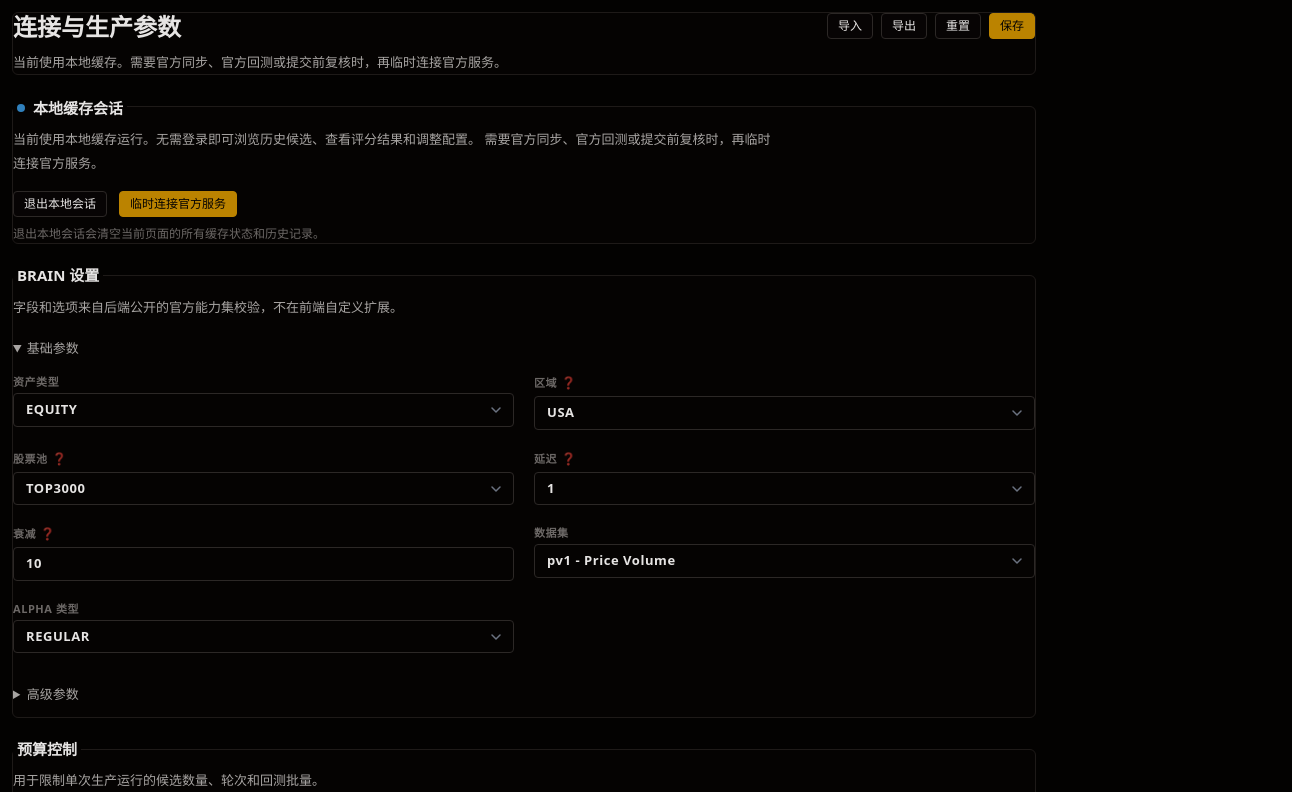
Test: ConfigPanel › keeps cache-only config state when logout fails
expect the text "本地缓存会话" is shown: met, box [17, 96, 123, 119]
Click the button "临时连接官方服务".
click(178, 204)  # box [119, 191, 237, 217]
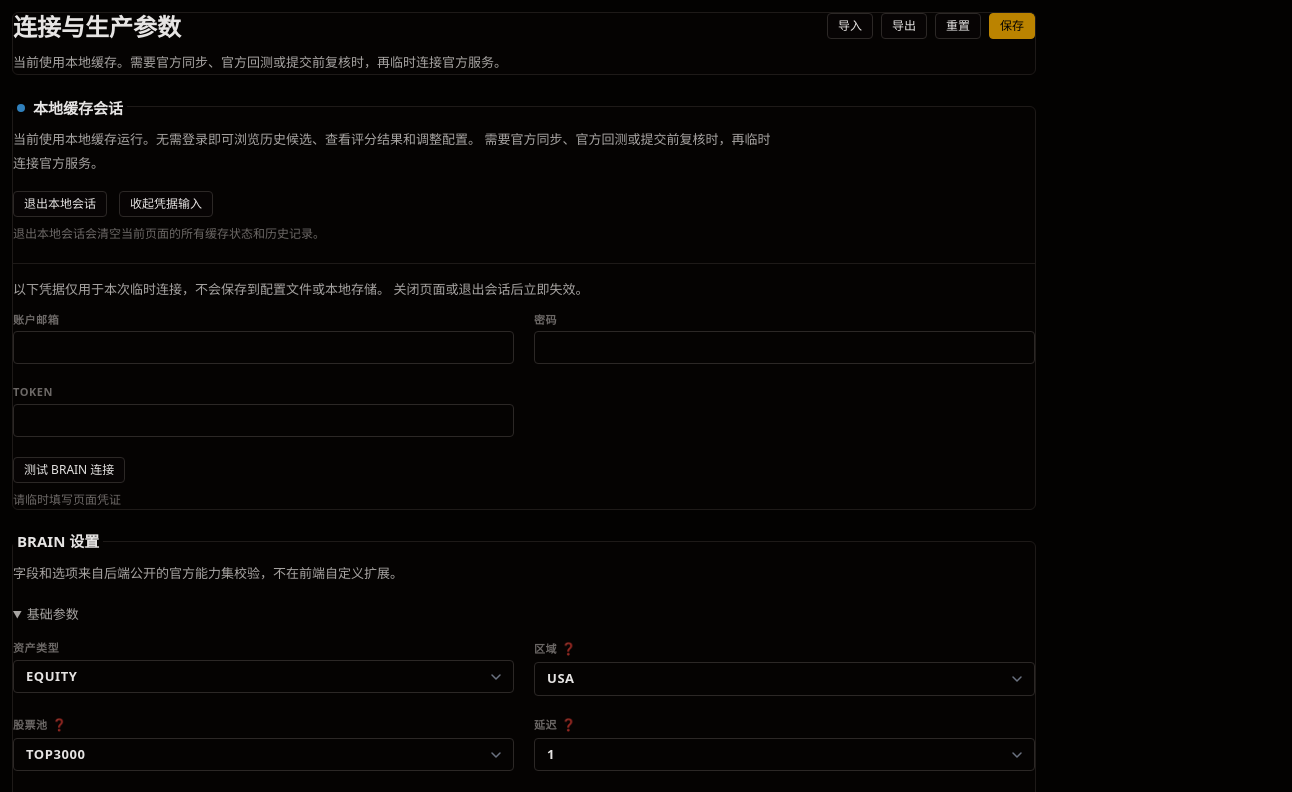
Type "session-token" into the password field labelled "Token".
click(264, 421); type("session-token")  # box [13, 404, 514, 437]
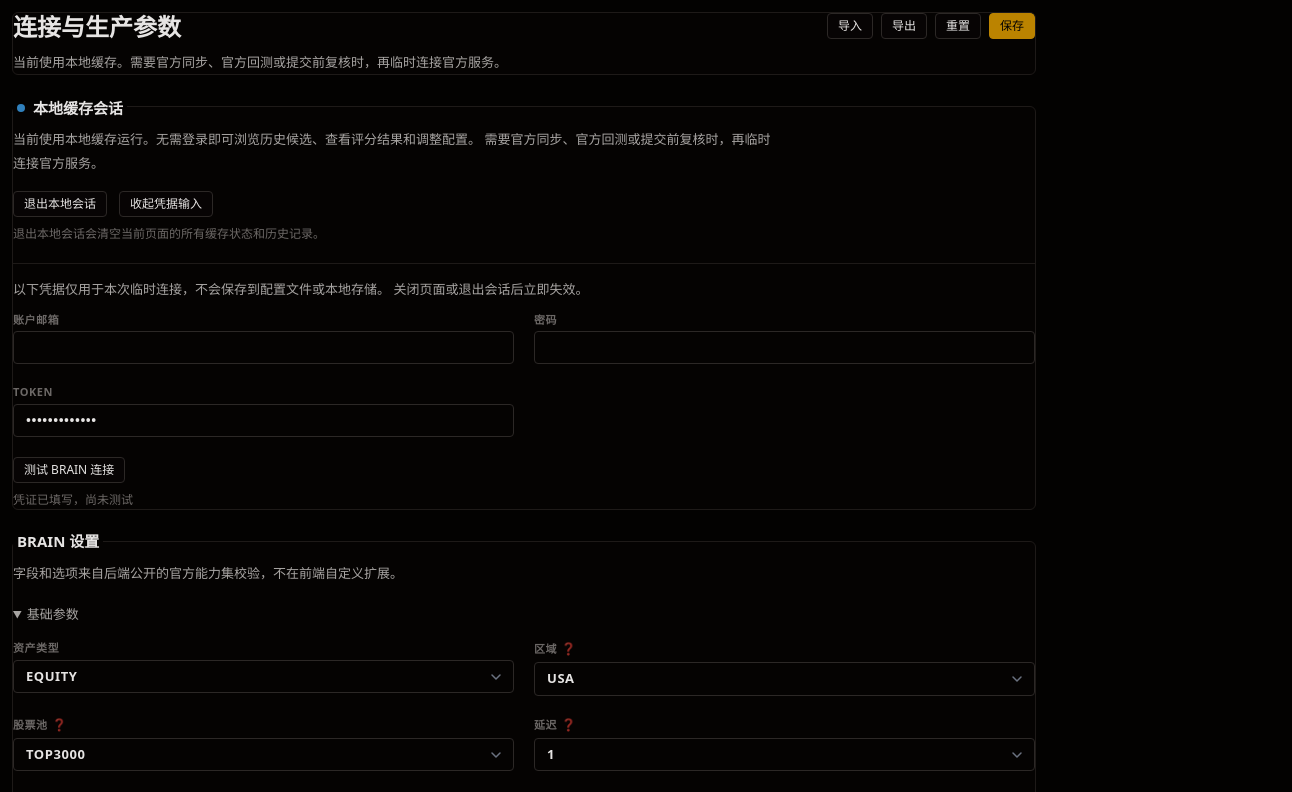
Click the button "退出本地会话".
click(60, 204)  # box [13, 191, 107, 217]
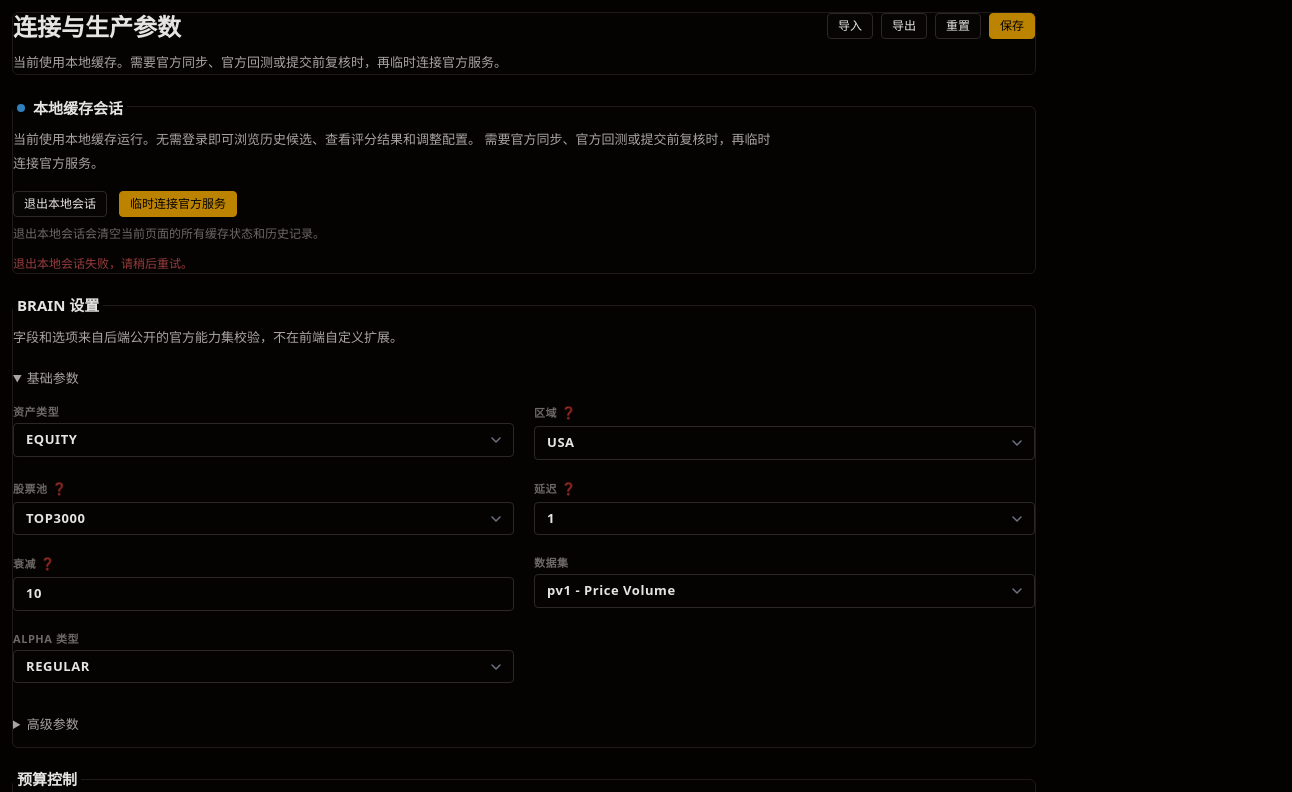
expect the text "退出本地会话失败" is shown: met, box [13, 255, 193, 272]
